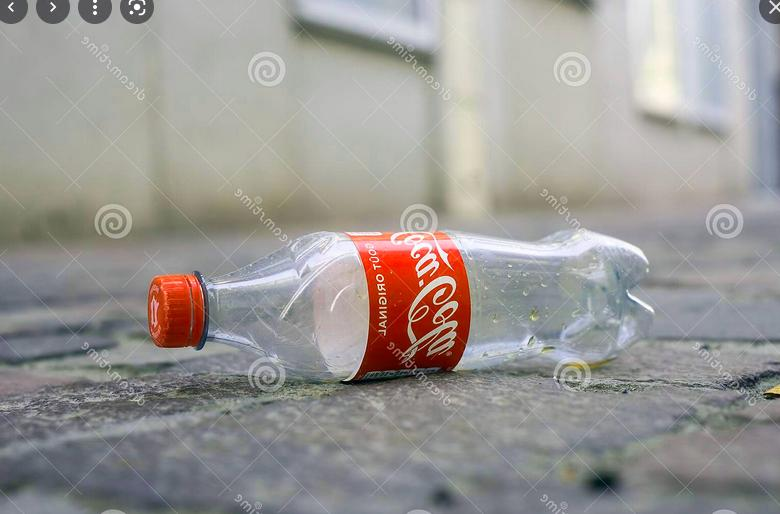Plastic: (145, 216, 664, 417)
